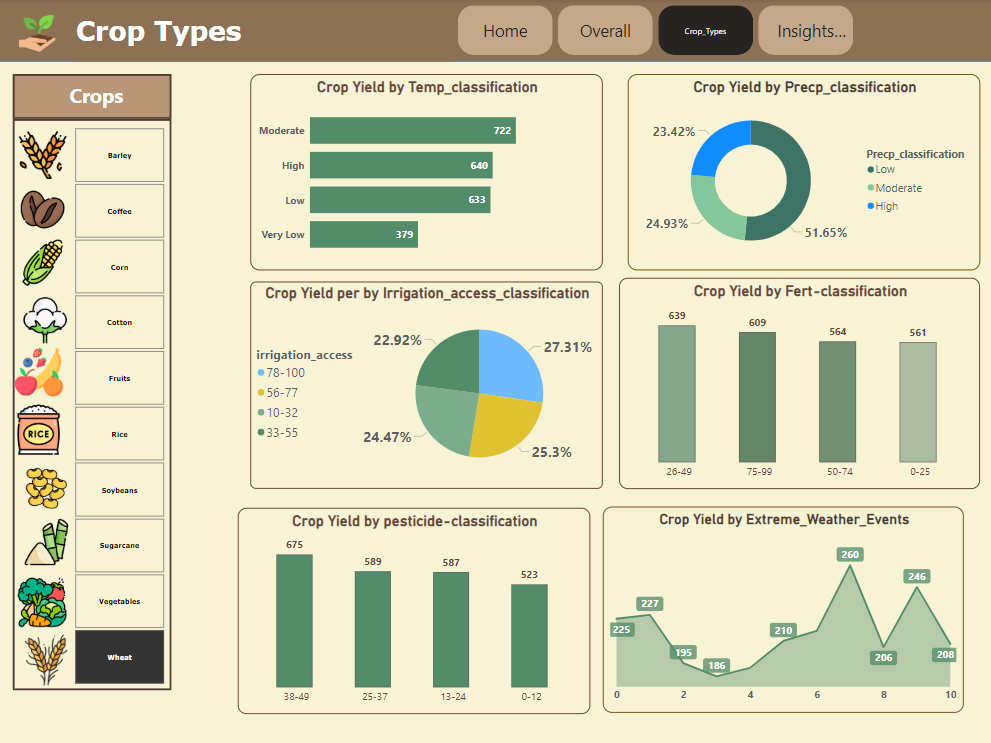

What the dashboard file says about the page in this screenshot:
{"tool":"powerbi","page":{"name":"Crop_Types","canvas":[1600,1200],"ordinal":2},"visuals":[{"type":"shape","box":[0,0,1600.5,100.5],"z":0},{"type":"textbox","box":[119.5,19.5,612.2,80.5],"z":1000},{"type":"donutChart","title":" Crop Yield by Precp_classification","fields":{"Category":["climate_change_impact_on_agriculture_2024.Precp_classification"],"Y":["Sum(climate_change_impact_on_agriculture_2024.Crop_Yield_MT_per_HA)"]},"box":[1011.4,120.6,567,315.7],"z":2000},{"type":"areaChart","title":"Crop Yield  by Extreme_Weather_Events","fields":{"Category":["climate_change_impact_on_agriculture_2024.Extreme_Weather_Events"],"Y":["Sum(climate_change_impact_on_agriculture_2024.Crop_Yield_MT_per_HA)"]},"box":[971.2,816.4,581.1,331.8],"z":3000},{"type":"image","box":[26.2,20,70.8,70.8],"z":4000},{"type":"clusteredBarChart","title":" Crop Yield by Temp_classification","fields":{"Category":["climate_change_impact_on_agriculture_2024.Temp_classification"],"Y":["Sum(climate_change_impact_on_agriculture_2024.Crop_Yield_MT_per_HA)"]},"box":[404.2,120.6,567,315.7],"z":5000},{"type":"pieChart","title":" Crop Yield per by adaptatian stratigies","fields":{"Y":["Sum(climate_change_impact_on_agriculture_2024.Crop_Yield_MT_per_HA)"],"Series":["climate_change_impact_on_agriculture_2024.Adaptation_Strategies"]},"box":[404.2,454.4,567,333.8],"z":6000},{"type":"clusteredColumnChart","title":"Crop Yield  by Fert-classification","fields":{"Category":["climate_change_impact_on_agriculture_2024.Fert-classification"],"Y":["Sum(climate_change_impact_on_agriculture_2024.Crop_Yield_MT_per_HA)"]},"box":[997.3,448.4,581.1,339.8],"z":7000},{"type":"clusteredColumnChart","title":" Crop Yield by pesticide-classification","fields":{"Category":["climate_change_impact_on_agriculture_2024.pesticide-classification"],"Y":["Sum(climate_change_impact_on_agriculture_2024.Crop_Yield_MT_per_HA)"]},"box":[384.1,818.4,567,331.8],"z":8000},{"type":"shape","box":[22.1,120.6,255.4,72.4],"z":9000},{"type":"textbox","box":[108.6,128.7,116.6,58.3],"z":10000},{"type":"shape","box":[22.1,193,255.4,918.9],"z":11000},{"type":"slicer","fields":{"Values":["climate_change_impact_on_agriculture_2024.Crop_Type"]},"box":[96.5,201.1,193,906.8],"z":12000},{"type":"image","box":[8,647.5,110.6,90.5],"z":13000},{"type":"image","box":[14.1,1015.4,122.7,96.5],"z":14000},{"type":"image","box":[34.2,816.4,84.5,114.6],"z":15000},{"type":"image","box":[32.2,448.4,84.5,136.7],"z":16000},{"type":"image","box":[24.1,176.9,92.5,148.8],"z":17000},{"type":"image","box":[28.2,355.9,84.5,136.7],"z":18000},{"type":"image","box":[30.2,279.5,80.4,118.6],"z":19000},{"type":"image","box":[20.1,536.9,88.5,126.7],"z":20000},{"type":"image","box":[38.2,737.9,76.4,98.5],"z":21000},{"type":"image","box":[24.1,902.8,90.5,134.7],"z":22000},{"type":"pageNavigator","box":[737.9,10.1,639.4,80.4],"z":23000}]}

Visuals, with their boxes in screenshot pixels (x1, y1, x2, y2), scaled from the page's 1600x1200 canvas onto the 991x743 screenshot:
shape: left=0, top=0, right=990, bottom=62
textbox: left=74, top=12, right=453, bottom=62
" Crop Yield by Precp_classification" donutChart: left=626, top=75, right=978, bottom=270
"Crop Yield  by Extreme_Weather_Events" areaChart: left=602, top=505, right=961, bottom=711
image: left=16, top=12, right=60, bottom=56
" Crop Yield by Temp_classification" clusteredBarChart: left=250, top=75, right=602, bottom=270
" Crop Yield per by adaptatian stratigies" pieChart: left=250, top=281, right=602, bottom=488
"Crop Yield  by Fert-classification" clusteredColumnChart: left=618, top=278, right=978, bottom=488
" Crop Yield by pesticide-classification" clusteredColumnChart: left=238, top=507, right=589, bottom=712
shape: left=14, top=75, right=172, bottom=119
textbox: left=67, top=80, right=139, bottom=116
shape: left=14, top=119, right=172, bottom=688
slicer - climate_change_impact_on_agriculture_2024.Crop_Type: left=60, top=125, right=179, bottom=686
image: left=5, top=401, right=73, bottom=457
image: left=9, top=629, right=85, bottom=688
image: left=21, top=505, right=74, bottom=576
image: left=20, top=278, right=72, bottom=362
image: left=15, top=110, right=72, bottom=202
image: left=17, top=220, right=70, bottom=305
image: left=19, top=173, right=69, bottom=246
image: left=12, top=332, right=67, bottom=411
image: left=24, top=457, right=71, bottom=518
image: left=15, top=559, right=71, bottom=642
pageNavigator: left=457, top=6, right=853, bottom=56
